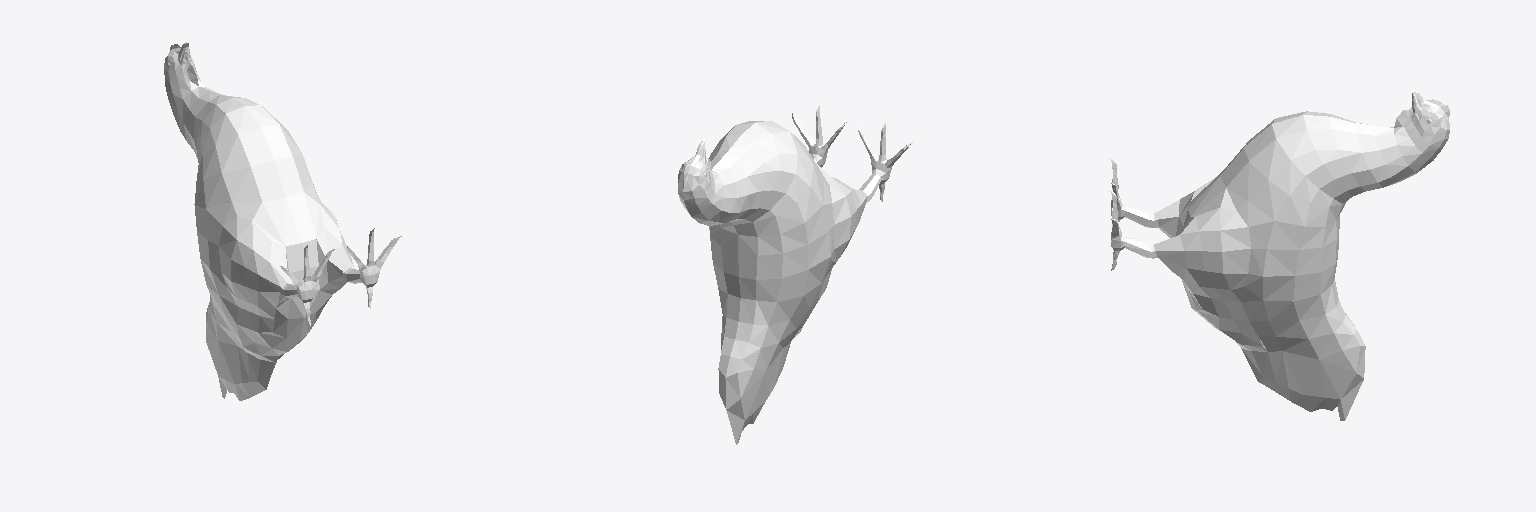
The model's file is Hen.obj.
The picture shows the model from 3 angles: view 1: azimuth 30°, elevation 25°; view 2: azimuth 150°, elevation 25°; view 3: azimuth 270°, elevation 25°; orthographic projection.
Parts seen in each view (by area): view 1: chicken_chicken_0; view 2: chicken_chicken_0; view 3: chicken_chicken_0.
Part boxes in pixels (x1,y1,x2,y2): chicken_chicken_0: (164,42,401,400); chicken_chicken_0: (678,105,913,444); chicken_chicken_0: (1110,89,1449,420).
Bounding box in the file's own units: 0.2172 × 0.5613 × 0.5239.